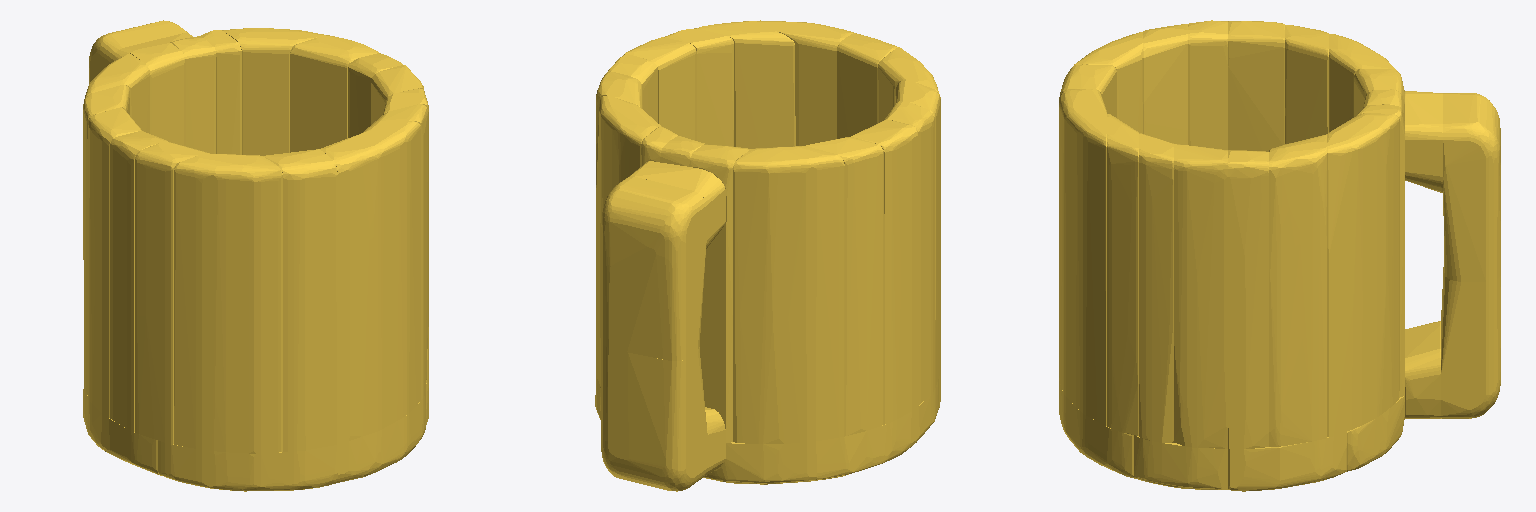
URDF robot description (573.urdf):
<?xml version="1.0" ?>
<robot name="573.urdf">
	<link name="baseLink">
		<inertial>
			<origin rpy="0 0 0" xyz="0 0 0"/>
				<mass value="0.1"/>
				<inertia ixx="6e-5" ixy="0" ixz="0" iyy="6e-5" iyz="0" izz="6e-5"/>
		</inertial>
		<visual>
			<origin rpy="0 0 0" xyz="0 0 0"/>
			<geometry>
				<mesh filename="19_decom_wt.obj" scale="0.89 0.89 0.83"/>
			</geometry>
			<material name="yellow">
				<color rgba="0.98 0.84 0.35 1"/>
			</material>
		</visual>
		<collision>
			<origin rpy="0 0 0" xyz="0 0 0"/>
			<geometry>
				<mesh filename="19_decom_wt.obj" scale="0.89 0.89 0.83"/>
			</geometry>
		</collision>
	</link>
</robot>

--- Facts derived from the render (not from the file) ---
Views: 3 orthographic renders of the robot side by side, from view 1: azimuth 30°, elevation 25°; view 2: azimuth 150°, elevation 25°; view 3: azimuth 270°, elevation 25°.
Robot: 573.urdf — 1 links, 0 joints (none); root link baseLink; default pose: all joints at 0.
Links seen in each view (by area): view 1: baseLink; view 2: baseLink; view 3: baseLink.
Boxes of the visible links, x1,y1,x2,y2 form: baseLink: (83, 20, 428, 491); baseLink: (595, 20, 940, 491); baseLink: (1059, 20, 1500, 491).
Size in the robot's own frame: 0.0765 by 0.097 by 0.0801 metres.
Meshes: 1 distinct files referenced, 1 mesh visuals loaded (1 OBJ).